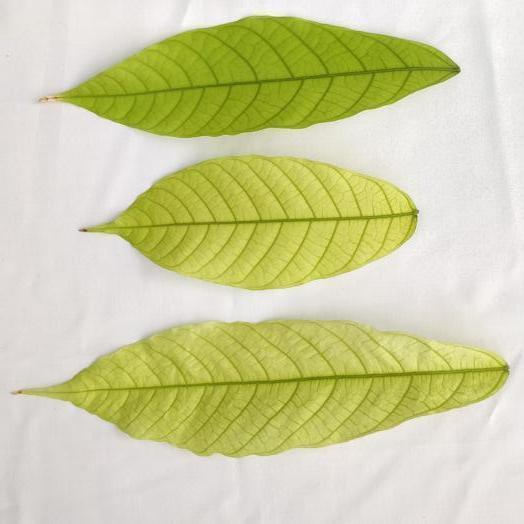Iron: (18, 321, 508, 455), (46, 16, 459, 137), (85, 155, 417, 289)
